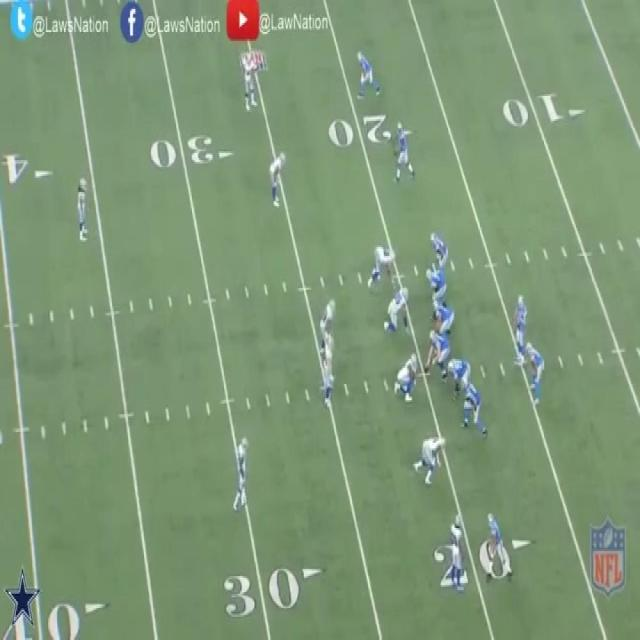center: (429, 331, 448, 375)
db: (448, 512, 464, 590), (235, 436, 251, 503), (268, 150, 285, 204), (244, 51, 258, 112), (78, 178, 88, 240)
lb: (323, 336, 337, 406), (317, 294, 336, 332)
qb: (515, 295, 525, 365)
